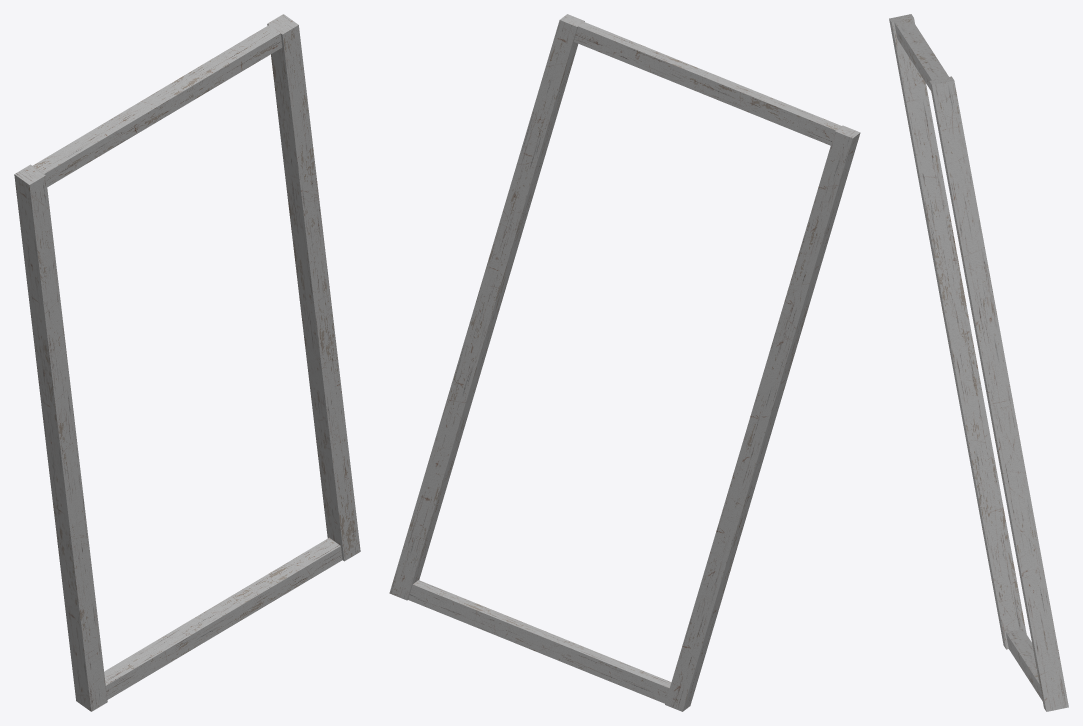
File: 镜子门.obj
3 renders of one model, left to right at view 1: azimuth 30°, elevation 25°; view 2: azimuth 150°, elevation 25°; view 3: azimuth 270°, elevation 25°, orthographic. The views are drawn at different scales.
Parts seen in each view (by area): view 1: 门框.001; view 2: 门框.001; view 3: 门框.001.
Part boxes in pixels (x1,y1,x2,y2): 门框.001: (14,14,360,711); 门框.001: (389,14,860,711); 门框.001: (889,14,1068,711).
Size of the model in its own units: 3.03 by 4.69 by 1.19.
1 material, 1 textured.
